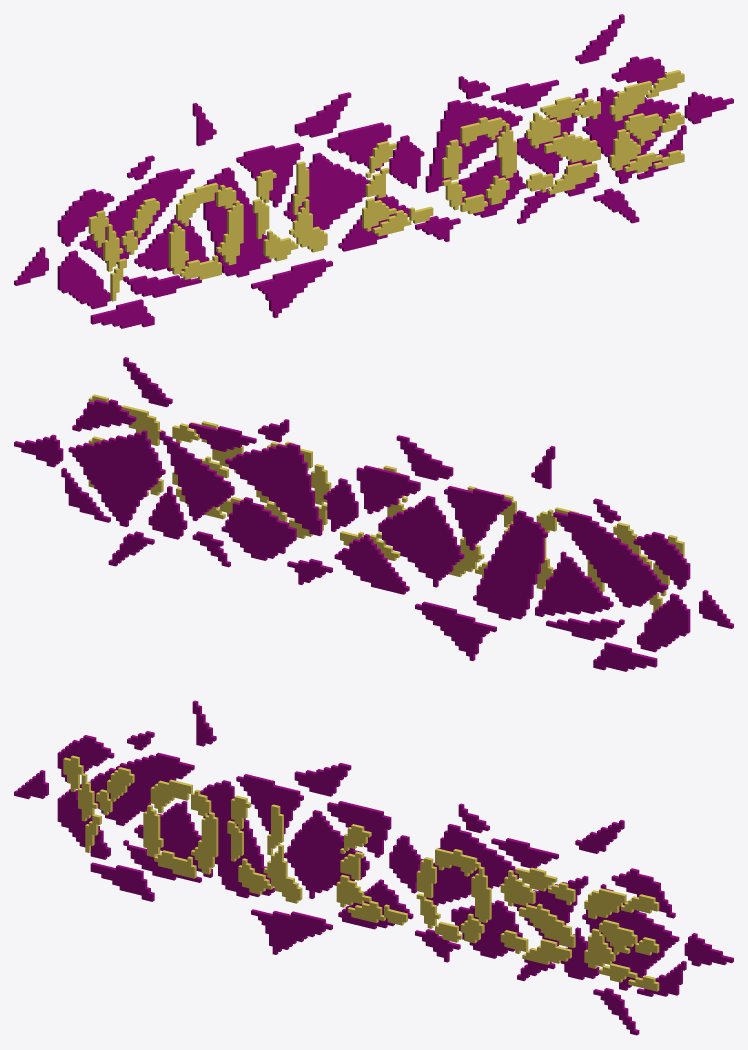
Rendered from lose_text.obj.
3 views of the same model, one above another, from view 1: azimuth 30°, elevation 25°; view 2: azimuth 150°, elevation 25°; view 3: azimuth 330°, elevation 25° (orthographic).
Bounding box in the file's own units: 19.7 × 6.1 × 0.7.
Materials: 1 (1 with a texture image).
